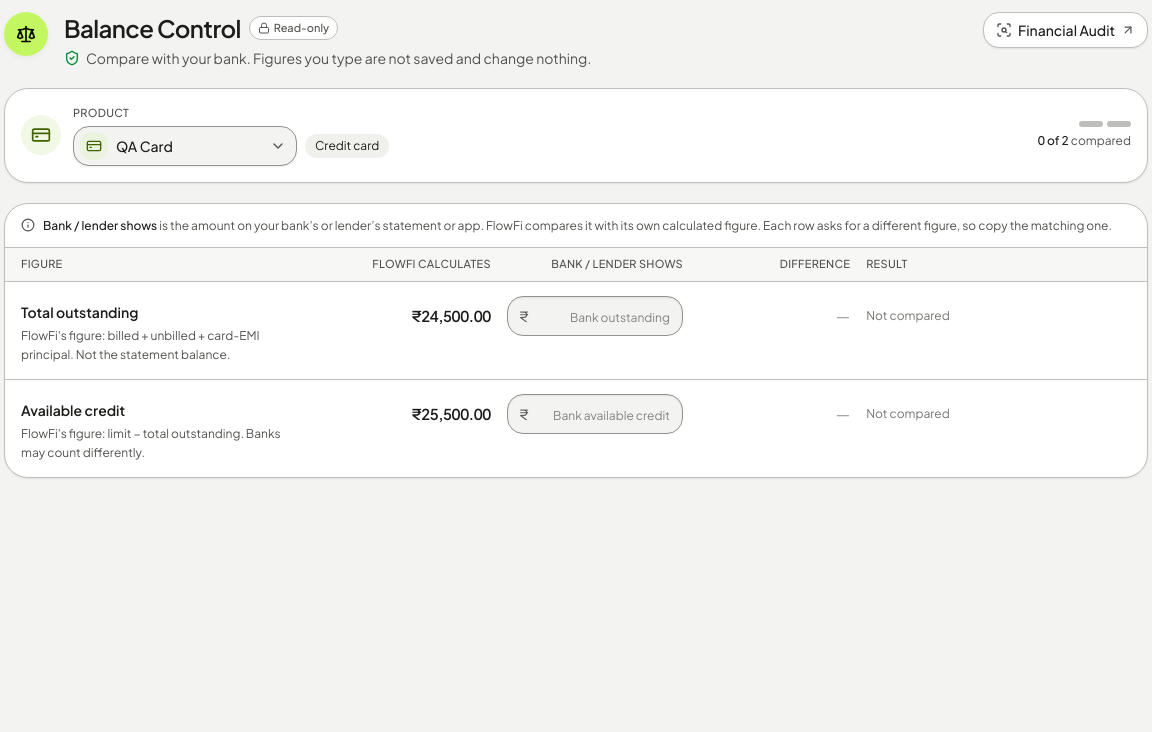
Reconcile button visibility › shows once a real gap is typed for totalOutstanding
The width and height of the screenshot is (1152, 732).
In the field with test id "bank-input": point(595, 316) x1=507 y1=296 x2=683 y2=336, type "25200"
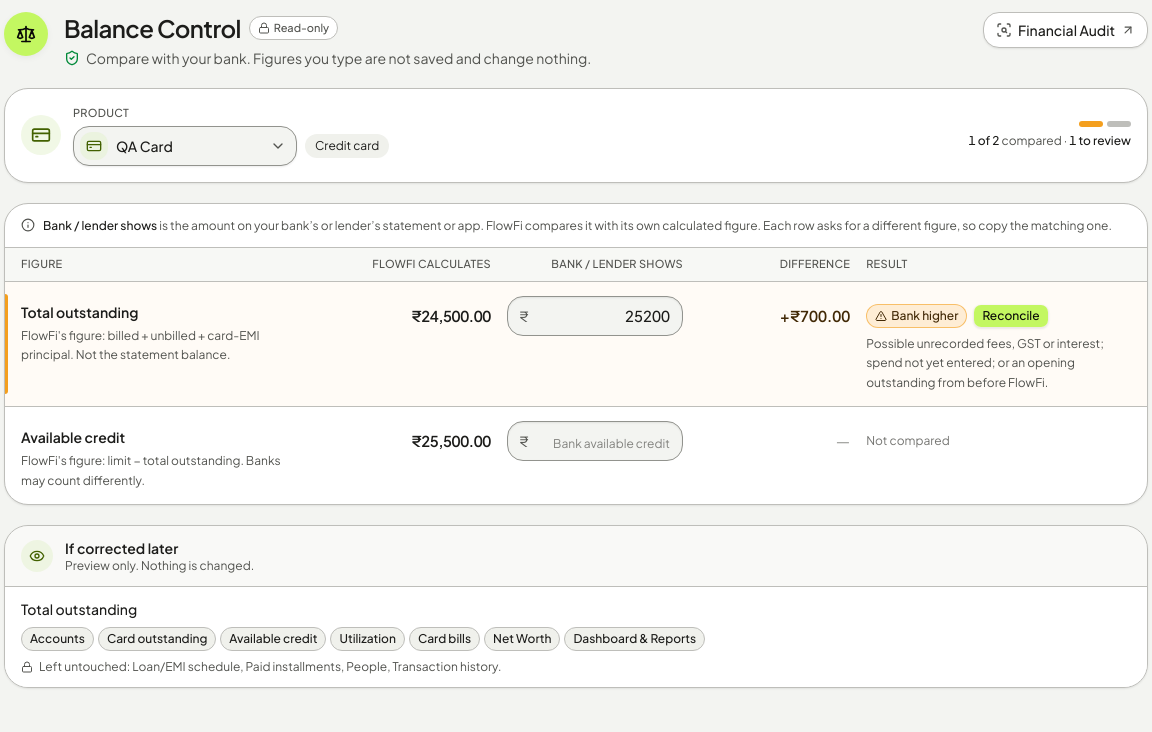
Check: the button with test id "reconcile-button" is shown, box x1=973 y1=304 x2=1048 y2=328
